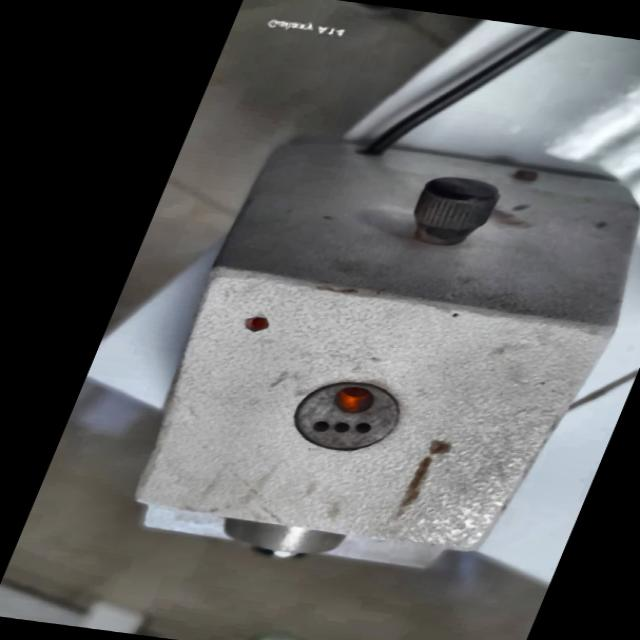Melting Point Apparatus: (91, 114, 640, 595)
